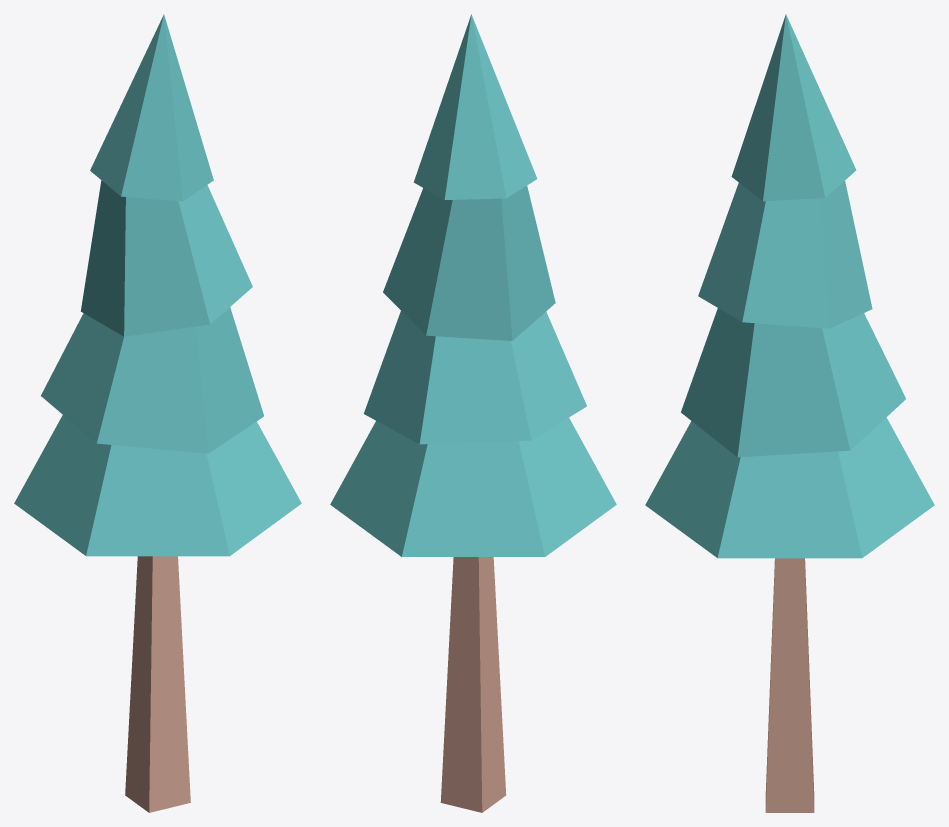
The picture shows the model from 3 angles, left to right: view 1: azimuth 30°, elevation 25°; view 2: azimuth 150°, elevation 25°; view 3: azimuth 270°, elevation 25°; orthographic projection.
Visible parts, largest first — view 1: tree_pineTallC; view 2: tree_pineTallC; view 3: tree_pineTallC.
Part boxes in pixels (<box>): tree_pineTallC: <box>14,14,301,812</box>; tree_pineTallC: <box>330,14,616,812</box>; tree_pineTallC: <box>645,14,934,812</box>.
Size of the model in its own units: 0.4804 by 1.67 by 0.5547.
